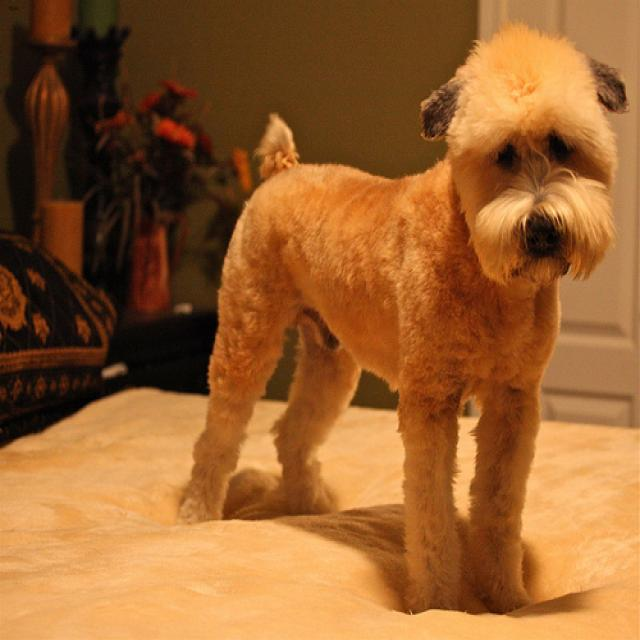dog-wheaten_terrier: (168, 9, 637, 624)
